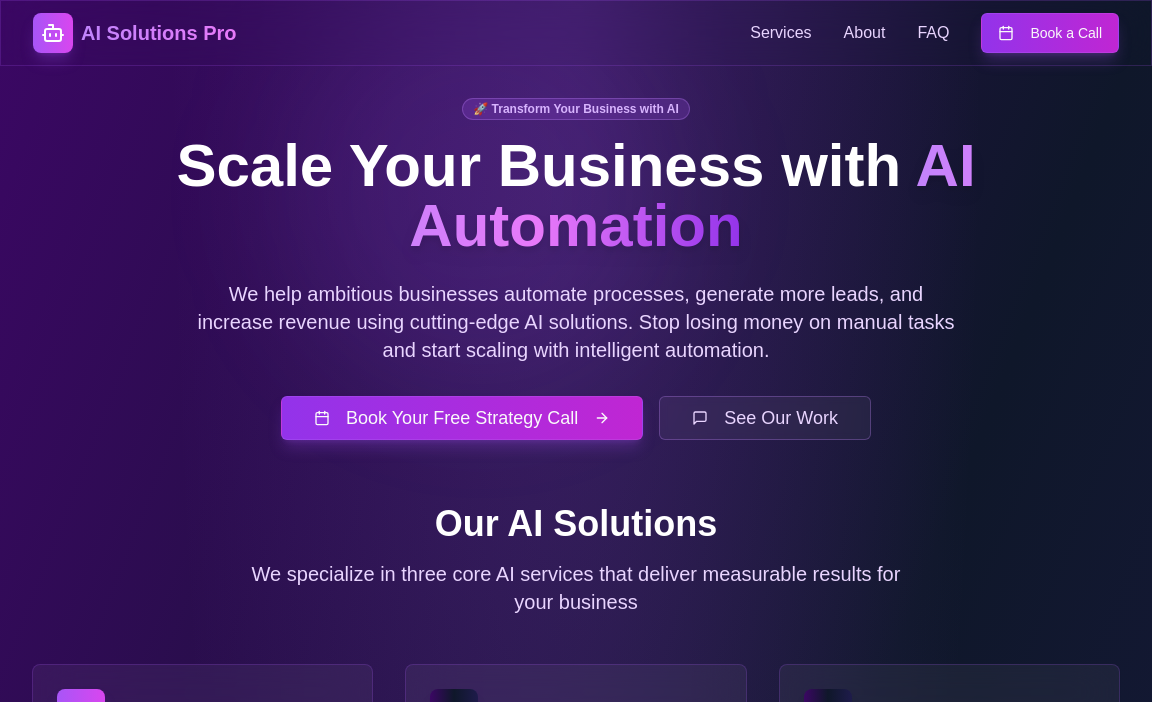
Test case: Complete Booking Flow Integration › allows booking from about section
This screenshot has width=1152, height=702.
# Navigate to about section first
Click the link "About" at (864, 33), box x1=844 y1=21 x2=885 y2=45
(page scrolled)
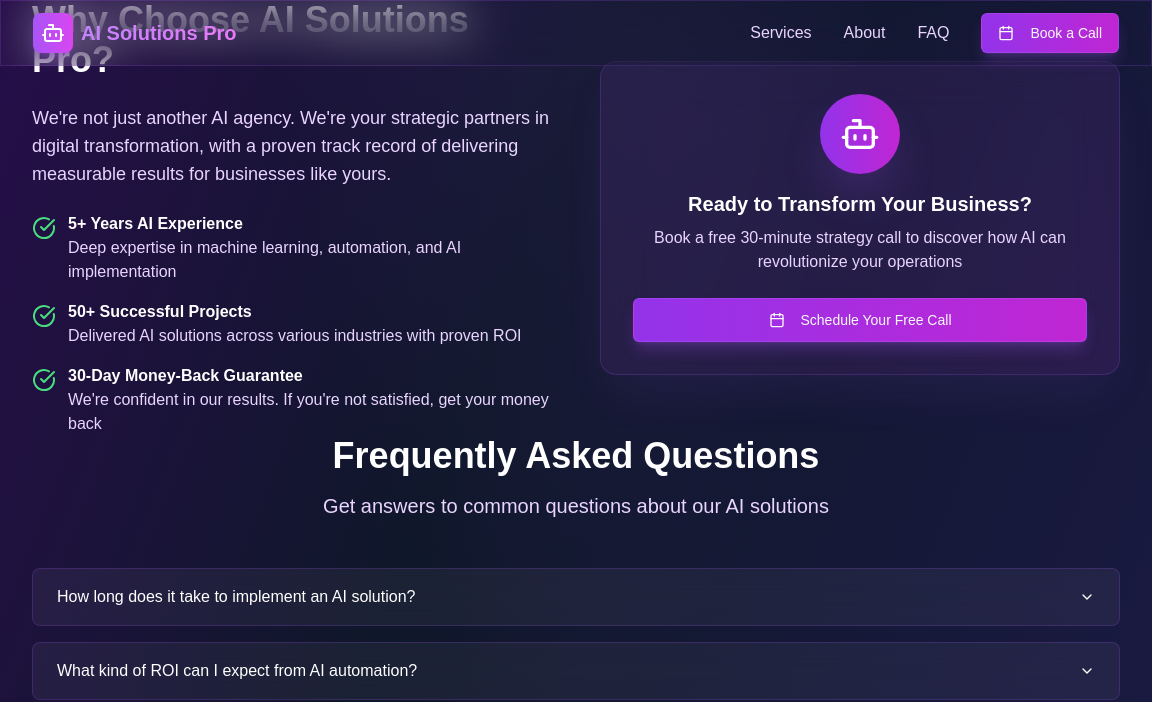
# Find and click the booking button in about section
Click the button "Schedule Your Free Call" at (860, 320), box x1=633 y1=298 x2=1087 y2=342
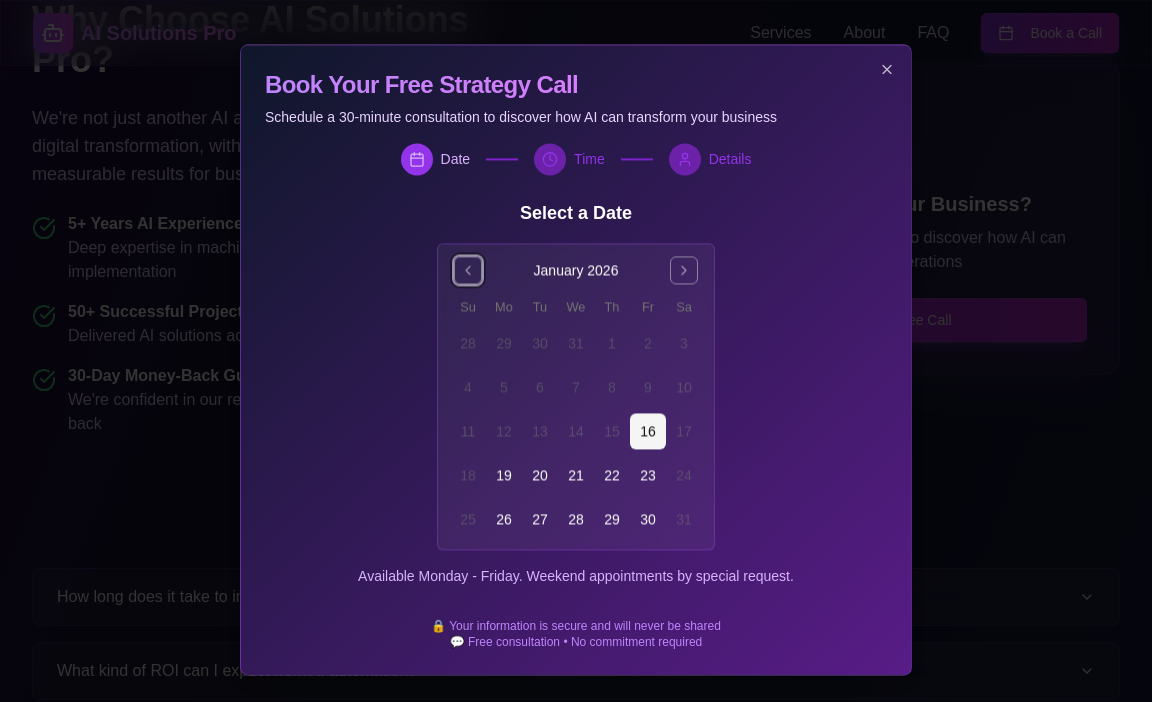
expect the dialog is shown: met, box x1=240 y1=44 x2=912 y2=676
